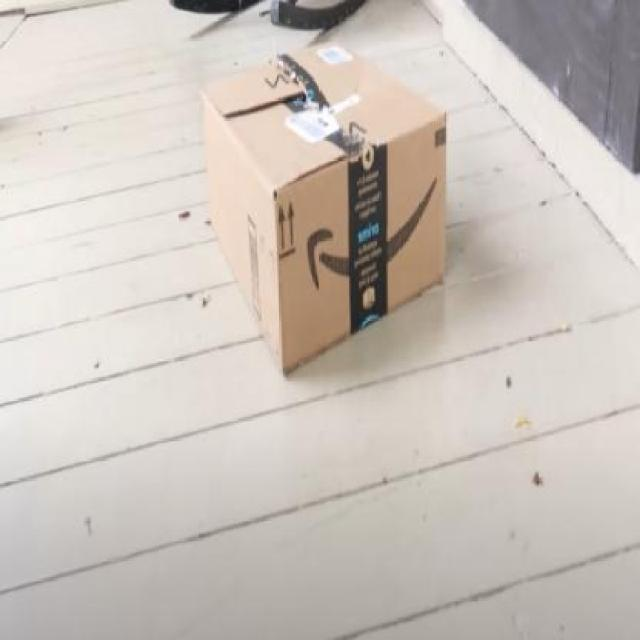cardboxes: (203, 34, 449, 386)
